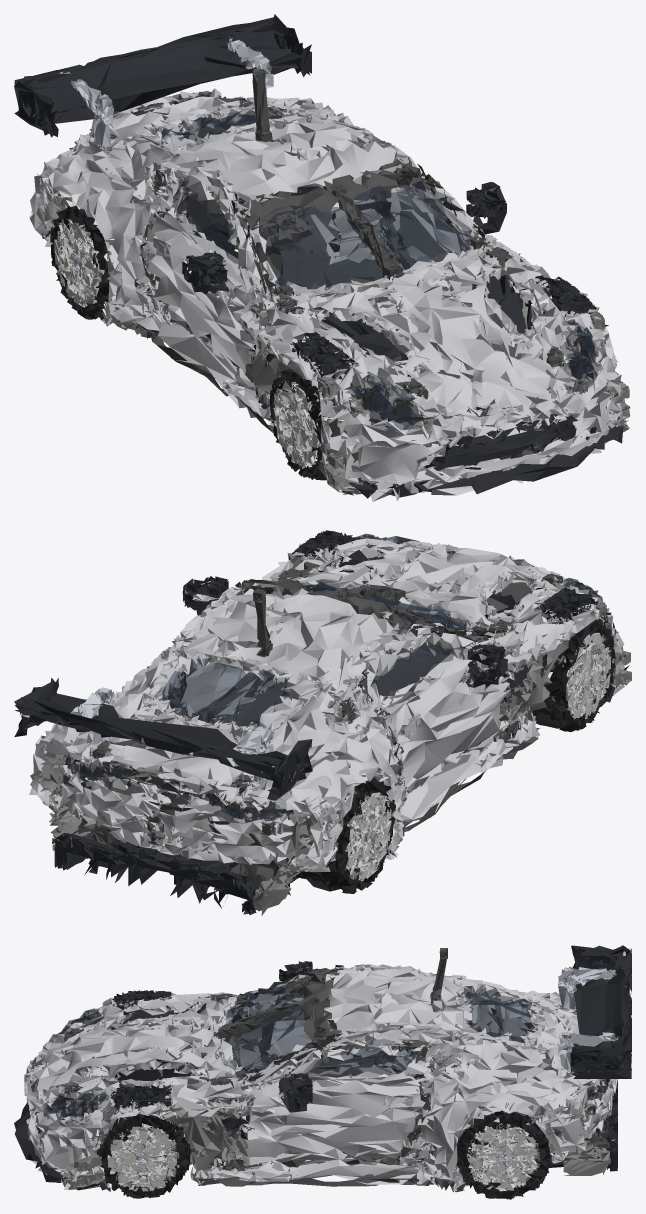
The model's file is aston-vantage-gt3.obj.
3 renders of one model, top to bottom at view 1: azimuth 30°, elevation 25°; view 2: azimuth 150°, elevation 25°; view 3: azimuth 270°, elevation 25°, orthographic. The views are drawn at different scales.
Parts seen in each view (by area): view 1: BODY, GLASS, WHEEL_RR, WHEEL_RF, AERO_WING; view 2: BODY, GLASS, WHEEL_RF, WHEEL_RR, AERO_WING; view 3: BODY, GLASS, WHEEL_LR, WHEEL_LF, AERO_WING.
Boxes of the visible parts, left/top/right/bottom form: BODY: left=14, top=14, right=630, bottom=501; GLASS: left=69, top=91, right=597, bottom=431; WHEEL_RR: left=50, top=205, right=109, bottom=320; WHEEL_RF: left=269, top=368, right=329, bottom=479; AERO_WING: left=70, top=40, right=273, bottom=149; BODY: left=14, top=530, right=631, bottom=915; GLASS: left=65, top=533, right=603, bottom=843; WHEEL_RF: left=532, top=618, right=615, bottom=731; WHEEL_RR: left=295, top=777, right=395, bottom=893; AERO_WING: left=70, top=687, right=273, bottom=789; BODY: left=14, top=945, right=631, bottom=1192; GLASS: left=44, top=968, right=613, bottom=1121; WHEEL_LR: left=456, top=1110, right=551, bottom=1199; WHEEL_LF: left=97, top=1113, right=191, bottom=1198; AERO_WING: left=558, top=966, right=618, bottom=1071.
Size of the model in its own units: 2.18 by 1.58 by 4.53.
